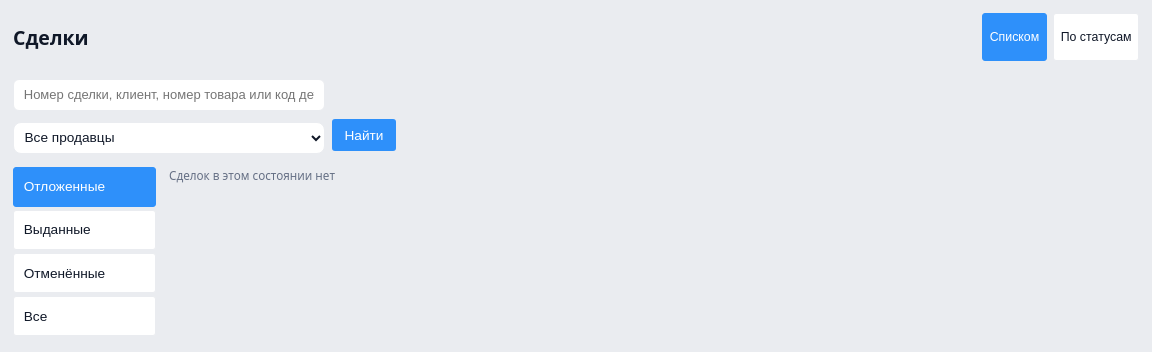
Test: список сделок продавца › поиск по коду детали уходит на сервер, ничего не найдено — словами
Expected: the text "Сделок в этом состоянии нет" is shown, [169, 167, 335, 183]
Step 1. Type "55747F0F91CD" into the field with placeholder "Номер сделки, клиент, номер товара или код детали" → (169, 94), box [13, 78, 325, 110]
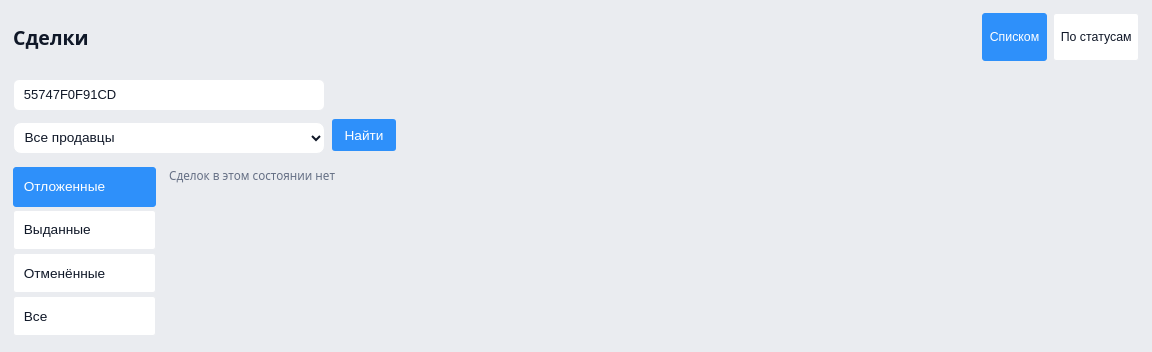
Step 2. Click the button "Найти" → (364, 135), box [332, 119, 396, 151]
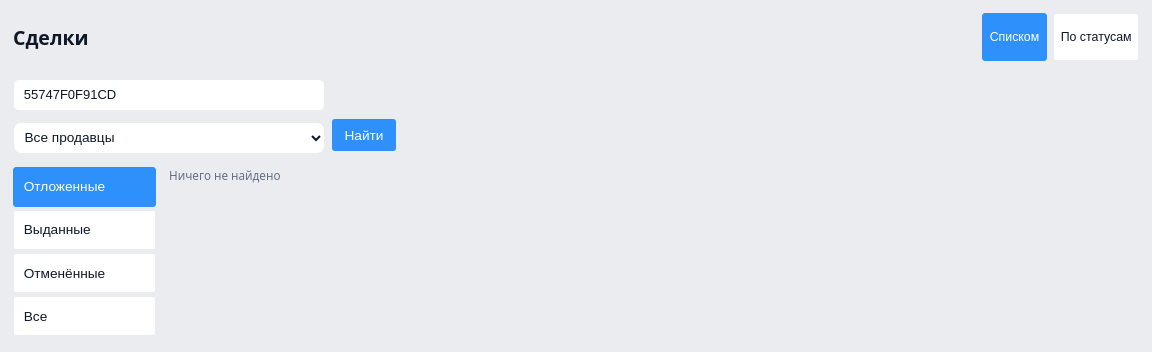
Expected: the text "Ничего не найдено" is shown, [169, 167, 280, 183]
Expected: the text "Сделок в этом состоянии нет" is gone
